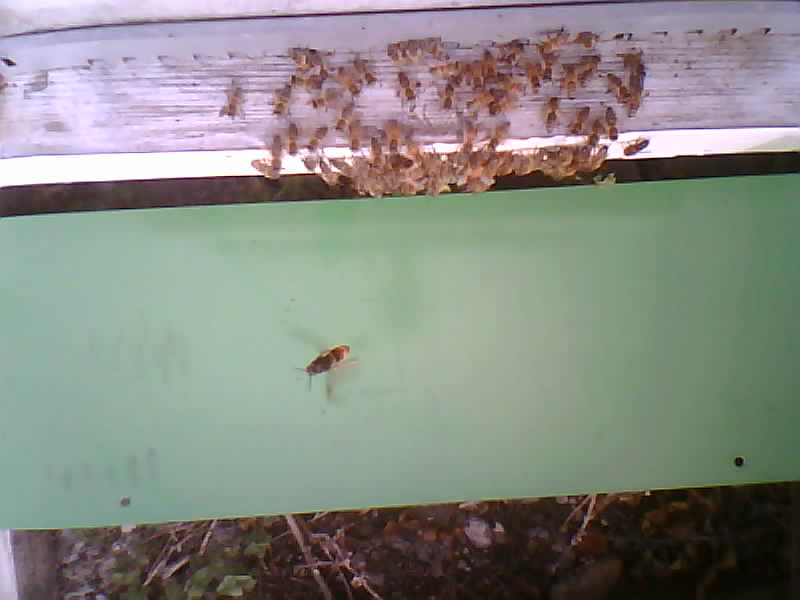bee: (275, 35, 655, 128), (254, 122, 659, 190), (220, 85, 253, 122)
hornet: (296, 335, 362, 385)
